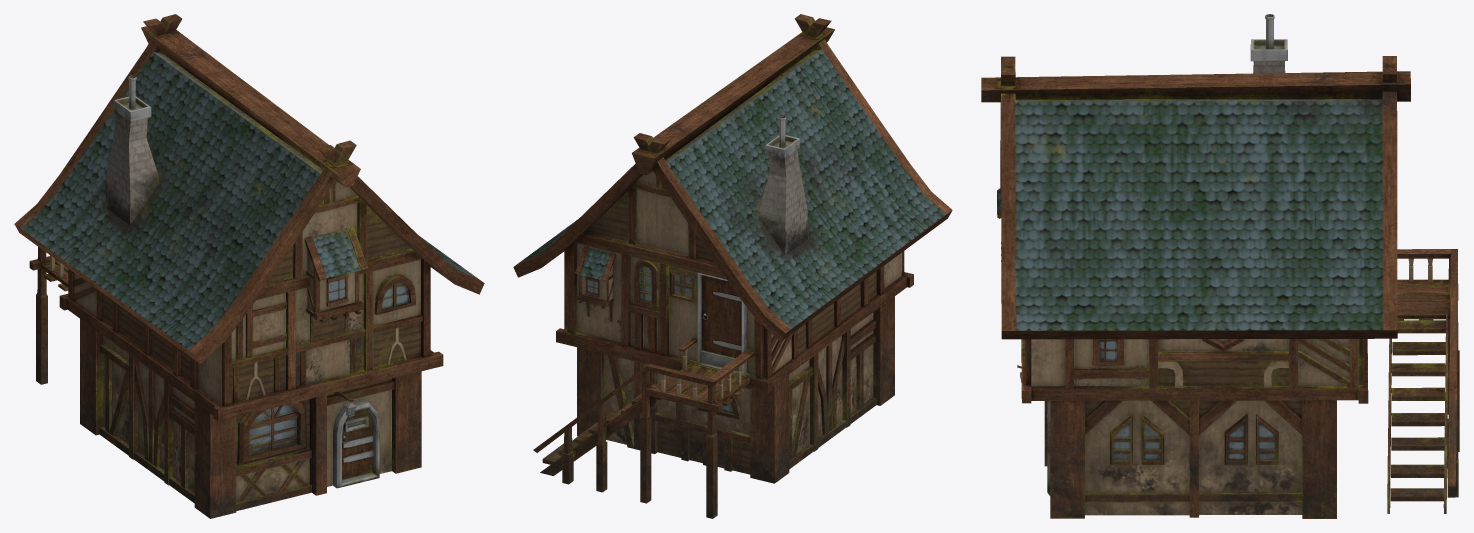
File: house3.glb
3 renders of one model, left to right at view 1: azimuth 30°, elevation 25°; view 2: azimuth 150°, elevation 25°; view 3: azimuth 270°, elevation 25°, orthographic. The views are drawn at different scales.
Parts seen in each view (by area): view 1: E7; view 2: E7; view 3: E7.
Part boxes in pixels (<box>): E7: <box>14,14,484,518</box>; E7: <box>513,14,952,518</box>; E7: <box>981,14,1459,518</box>.
Bounding box in the file's own units: 1.55 × 1.86 × 2.
1 material, 1 textured.
